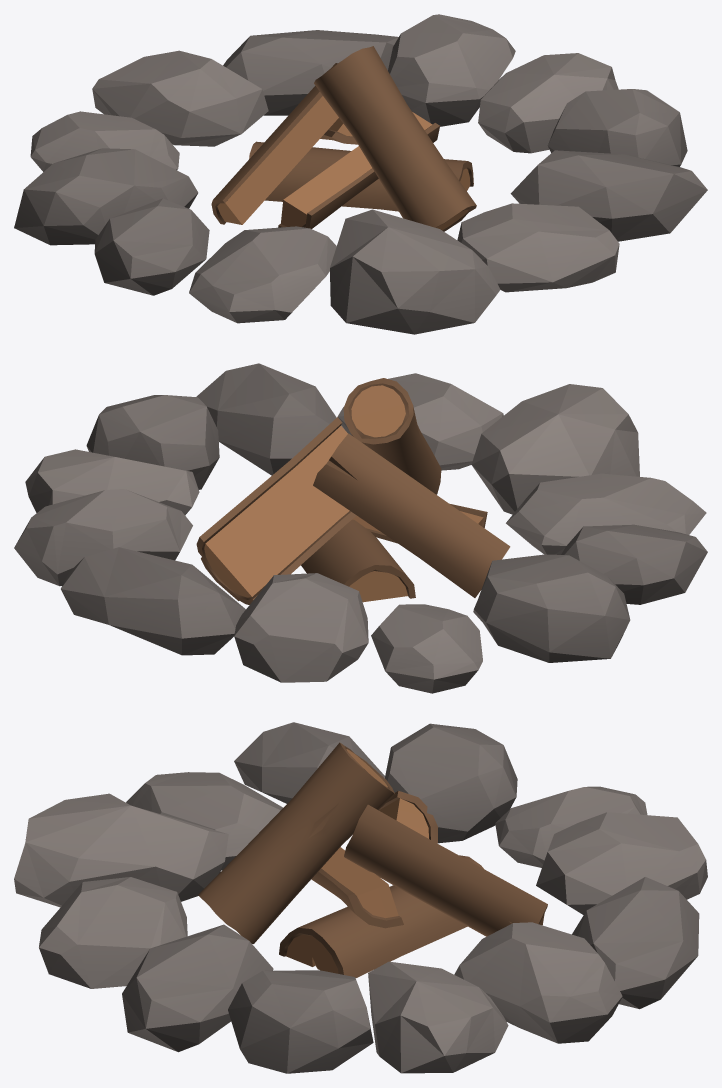
The model's file is CauldronCampfire.fbx.
The picture shows the model from 3 angles, top to bottom: view 1: azimuth 30°, elevation 25°; view 2: azimuth 150°, elevation 25°; view 3: azimuth 270°, elevation 25°; orthographic projection. The views are drawn at different scales.
Visible parts, largest first — view 1: CauldronCampfire; view 2: CauldronCampfire; view 3: CauldronCampfire.
Part boxes in pixels (x1=…): CauldronCampfire: x1=14, y1=14, x2=707, y2=334; CauldronCampfire: x1=14, y1=363, x2=707, y2=693; CauldronCampfire: x1=14, y1=722, x2=707, y2=1073.
Size of the model in its own units: 74.53 by 20.76 by 70.94.
